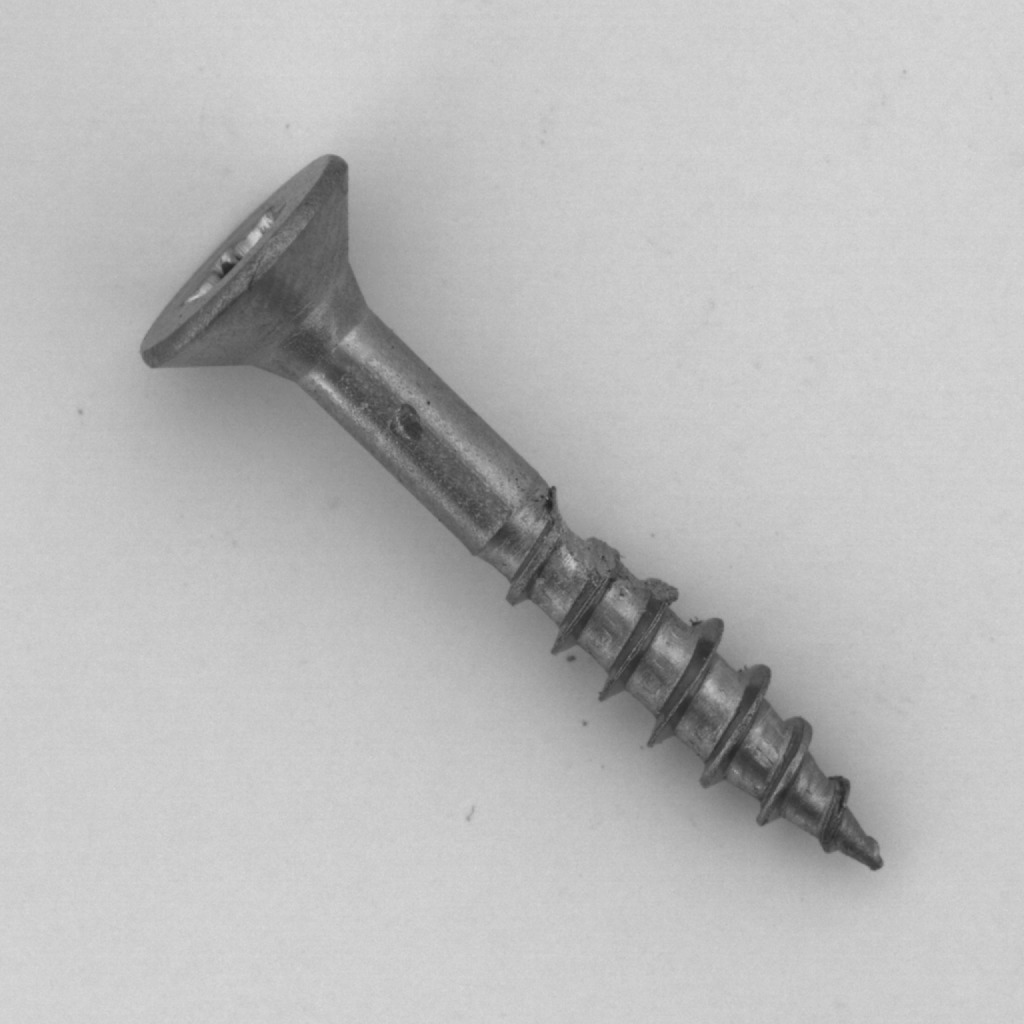thread_side: (517, 434, 728, 649)
